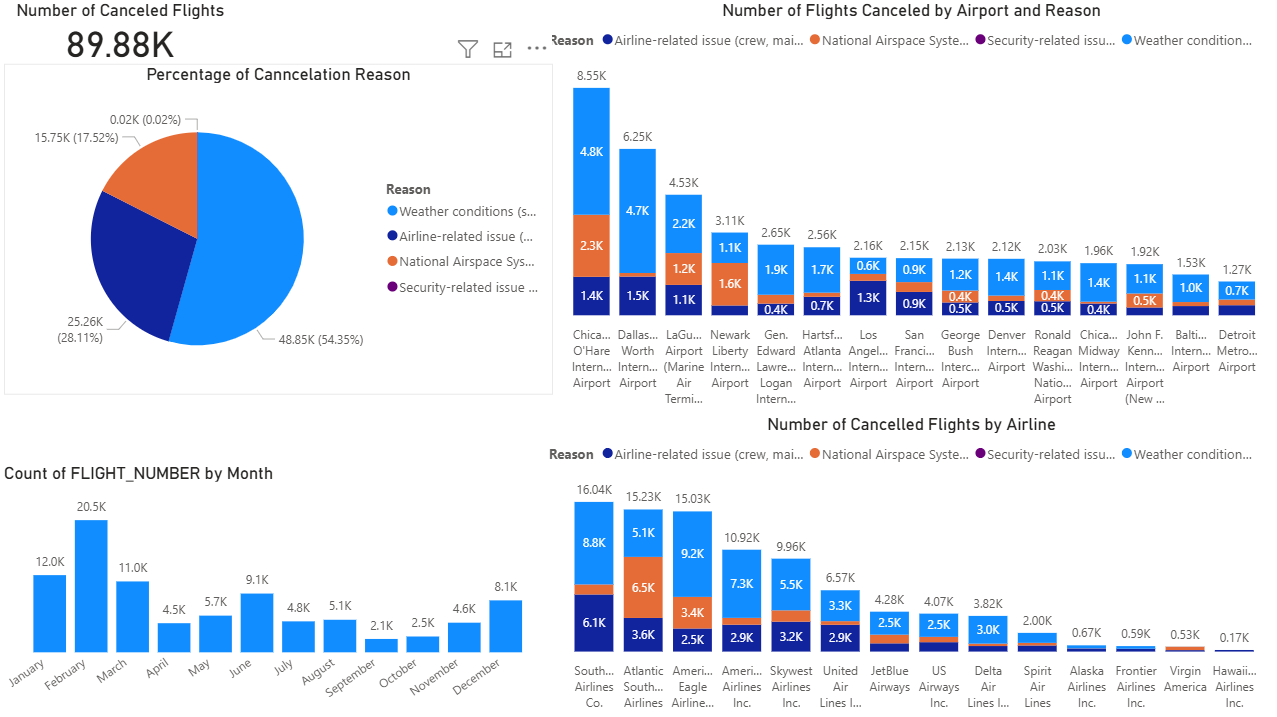

This screenshot's page, from the dashboard's own definition file:
{"tool":"powerbi","page":{"name":"Canceled Flights Analysis","canvas":[1280,720],"ordinal":2},"visuals":[{"type":"columnChart","title":"Number of Flights Canceled by Airport and Reason","fields":{"Y":["CountNonNull(flights.FLIGHT_NUMBER)"],"Category":["airports.AIRPORT"],"Series":["codes_category.description"]},"box":[544.8,0,735.2,414.2],"z":0},{"type":"columnChart","fields":{"Y":["CountNonNull(flights.FLIGHT_NUMBER)"],"Category":["months.month_name.Variation.Date Hierarchy.Year","months.month_name.Variation.Date Hierarchy.Quarter","months.month_name.Variation.Date Hierarchy.Month","months.month_name.Variation.Date Hierarchy.Day"]},"box":[0,462.2,545.4,258],"z":1000},{"type":"pieChart","title":"Percentage of Canncelation Reason ","fields":{"Category":["codes_category.description"],"Y":["CountNonNull(flights.FLIGHT_NUMBER)"]},"box":[4.9,63.6,549.1,331.4],"z":2000},{"type":"card","title":"Number of Canceled Flights","fields":{"Values":["CountNonNull(flights.FLIGHT_NUMBER)"]},"box":[0,0,242.6,63.4],"z":3000},{"type":"columnChart","title":"Number of Cancelled Flights by Airline","fields":{"Category":["airlines.AIRLINE"],"Y":["CountNonNull(flights.FLIGHT_NUMBER)"],"Series":["codes_category.Reason"]},"box":[544.8,414.2,735.2,304.8],"z":4000}]}

Visuals, with their boxes in screenshot pixels (x1, y1, x2, y2), scaled from the page's 1280x720 canvas onto the 1277x717 screenshot:
"Number of Flights Canceled by Airport and Reason" columnChart: locate(544, 0, 1276, 412)
columnChart - CountNonNull(flights.FLIGHT_NUMBER) x months.month_name.Variation.Date Hierarchy.Year: locate(0, 460, 544, 716)
"Percentage of Canncelation Reason " pieChart: locate(5, 63, 553, 393)
"Number of Canceled Flights" card: locate(0, 0, 242, 63)
"Number of Cancelled Flights by Airline" columnChart: locate(544, 412, 1276, 716)
